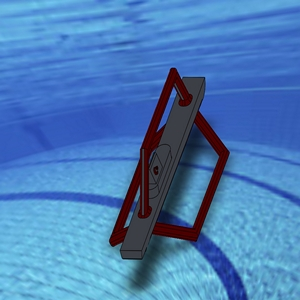submarine: (52, 47, 279, 275)
